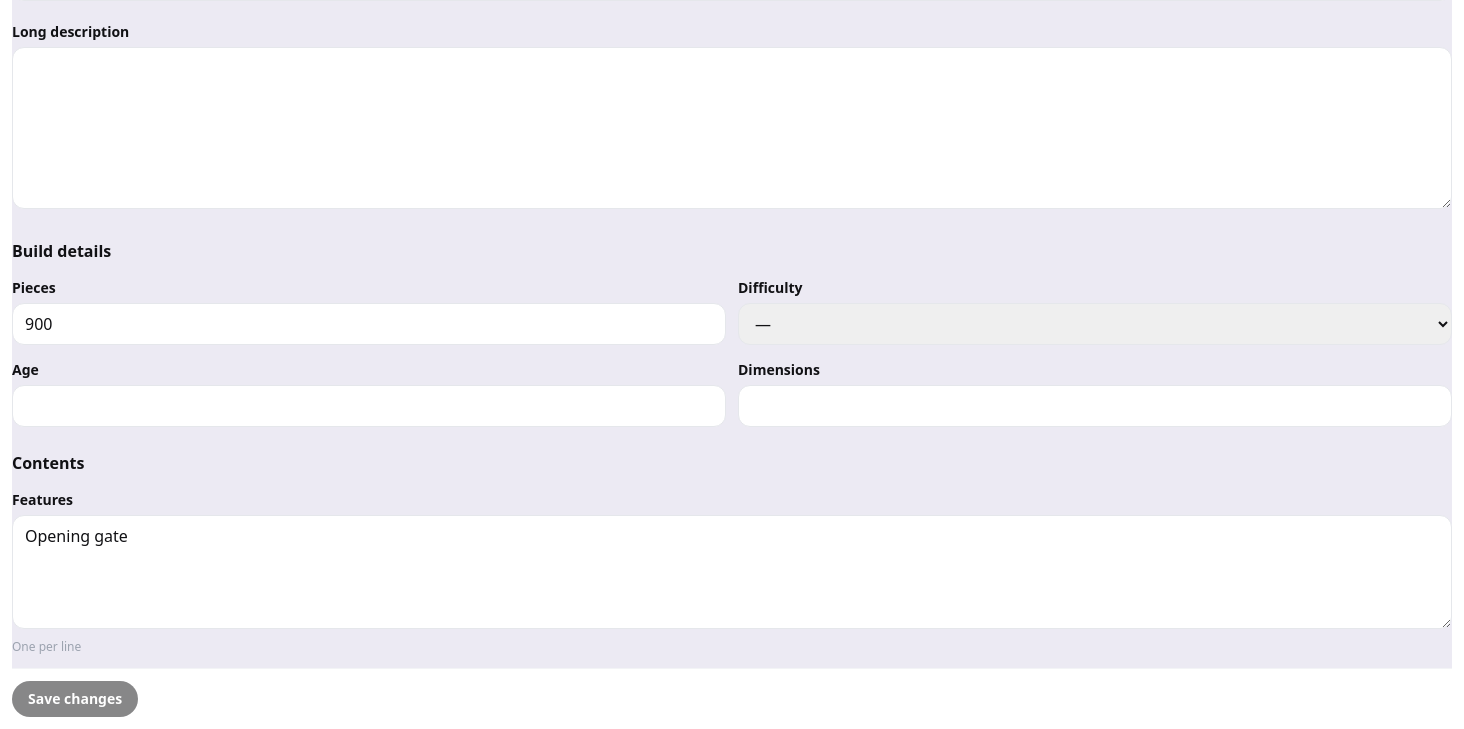
Test: InfoTab › discard clears field errors along with the edits
The width and height of the screenshot is (1464, 729).
(page scrolled)
Replace the text in the field labelled "Pieces" with "0": (369, 324) 12,303 -> 726,345
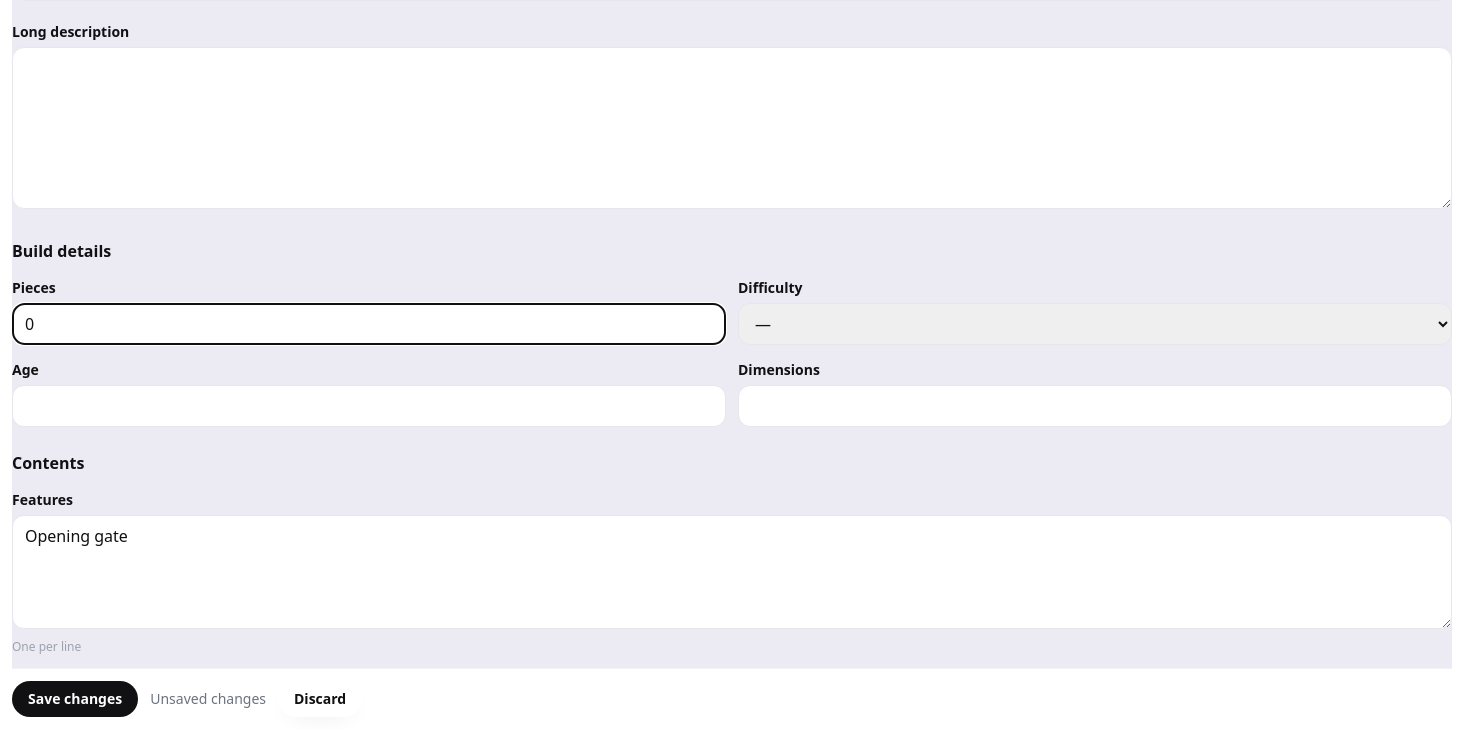
Click the button "Save changes": (75, 699) 12,681 -> 138,717
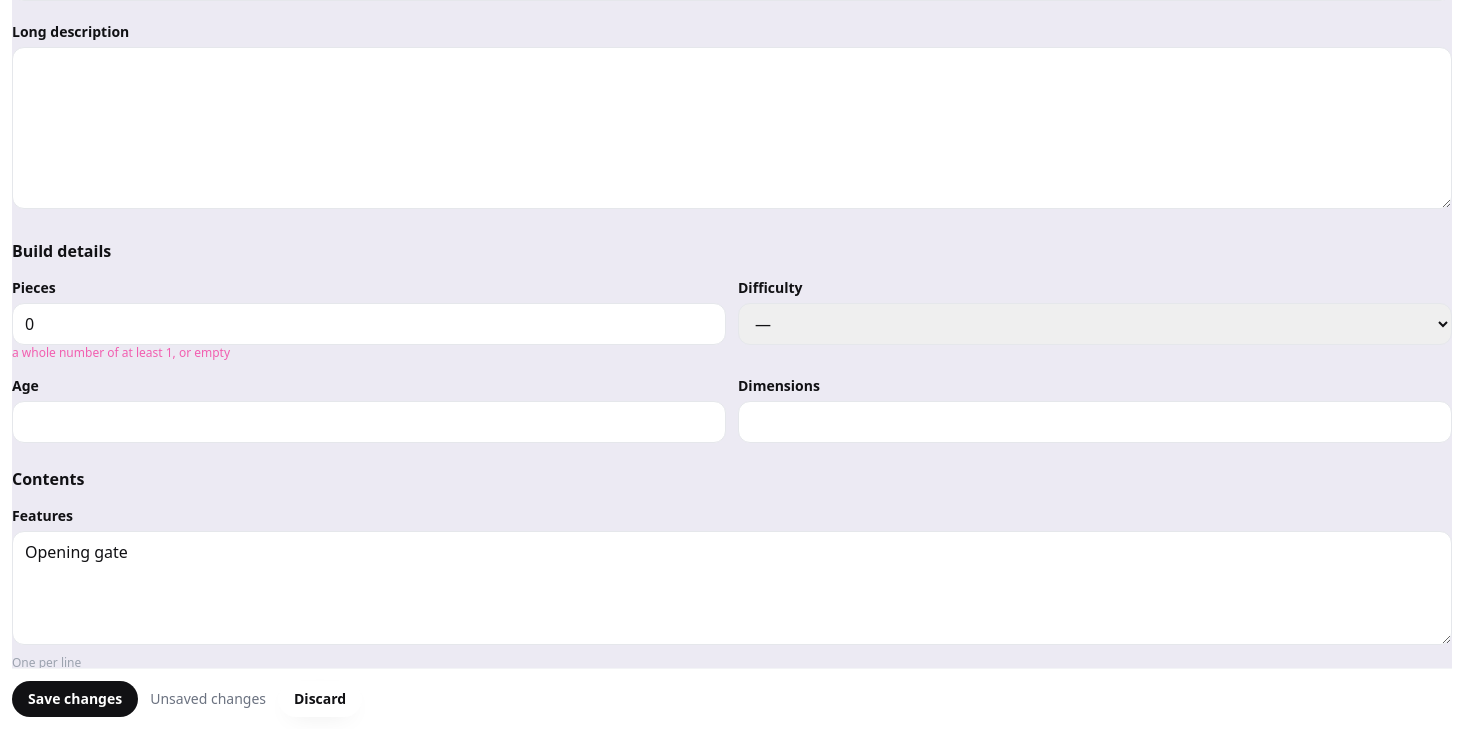
Result: the text "a whole number of at least 1, or empty" is shown at 12,344 -> 230,361
Click the button "Discard": (320, 699) 278,681 -> 362,717
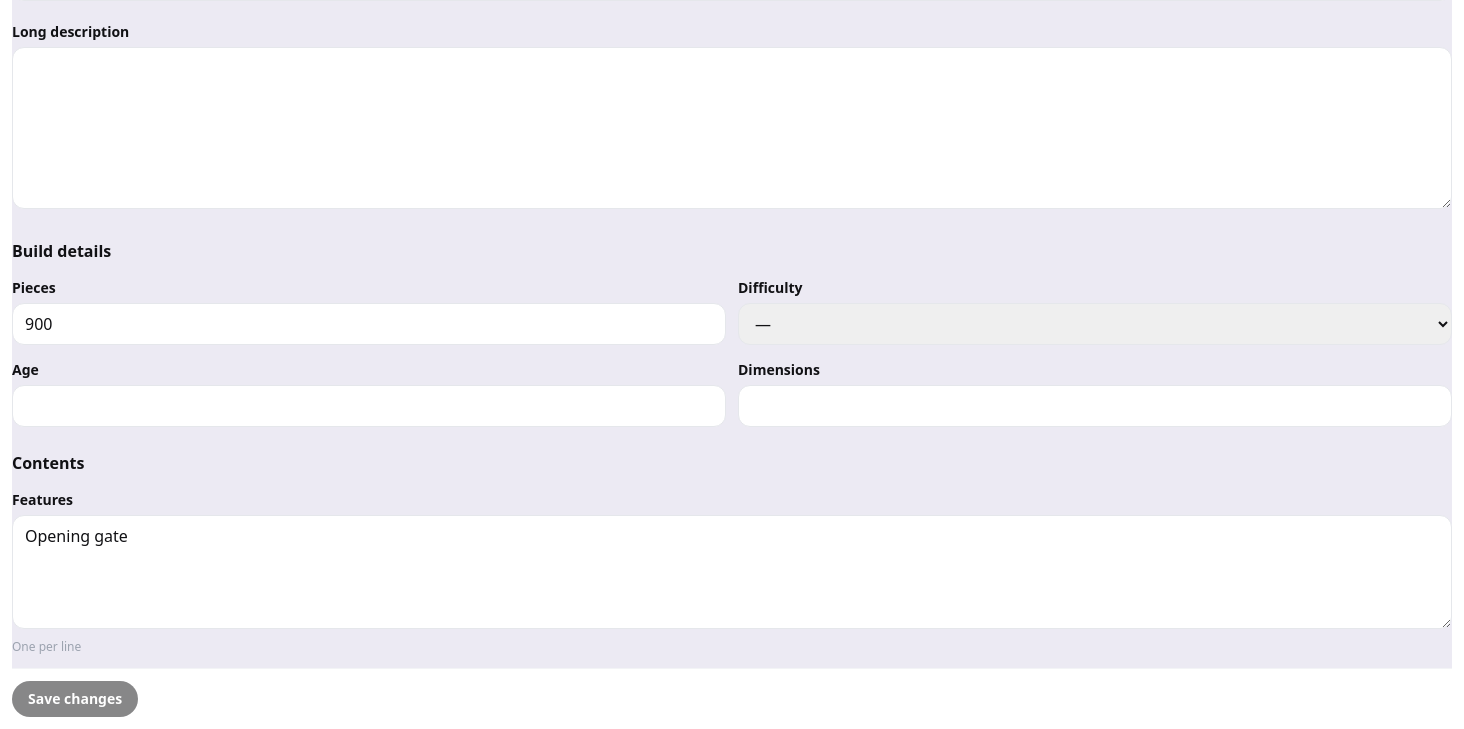
Result: the text "a whole number of at least 1, or empty" is gone
